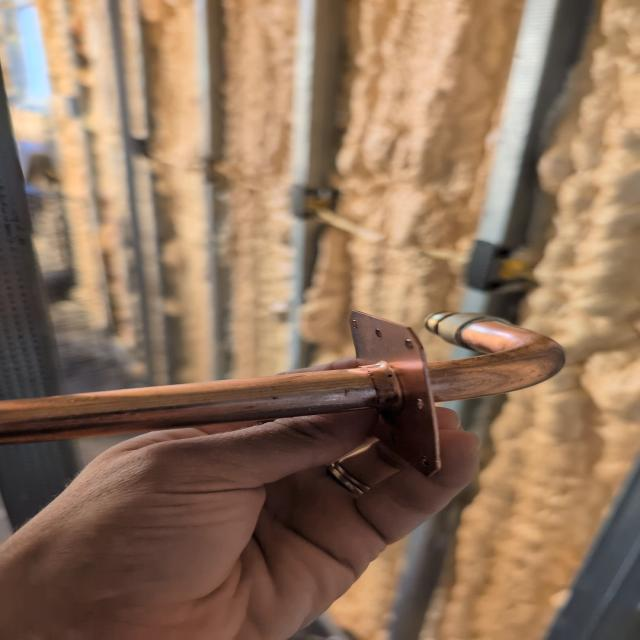wall_flange: (0, 294, 618, 478)
